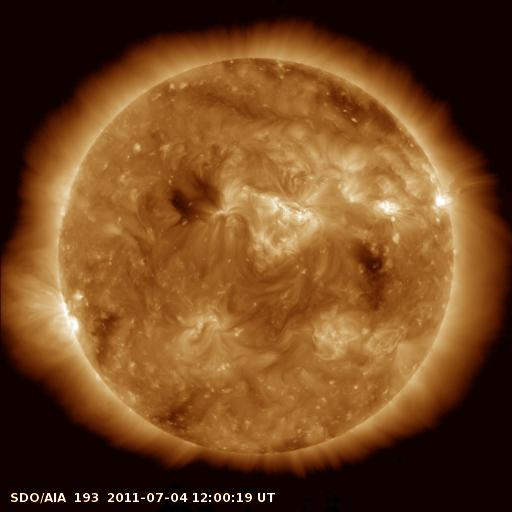coronal_hole: (163, 169, 215, 227), (353, 240, 392, 311)
